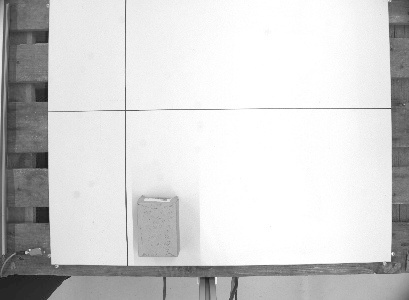b6: (132, 192, 183, 260)
